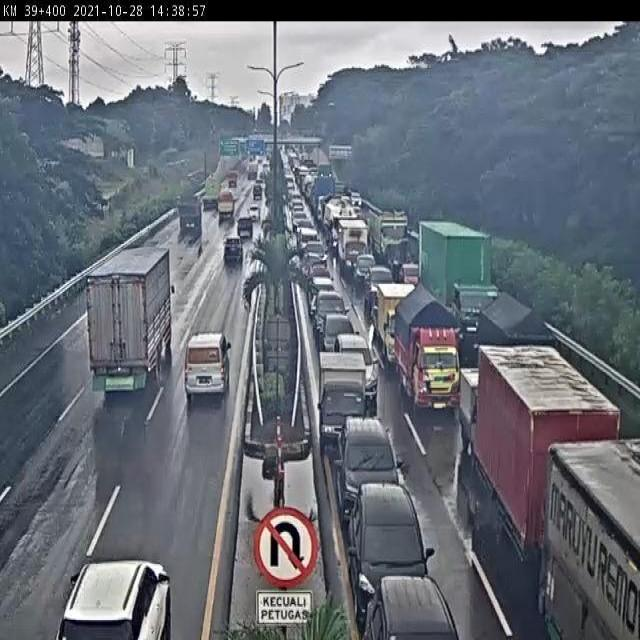big truck: (479, 345, 626, 595), (86, 247, 174, 396), (417, 220, 491, 341), (368, 206, 412, 262), (198, 177, 221, 215)
car: (349, 486, 436, 618), (335, 418, 399, 530), (363, 577, 460, 640), (183, 328, 232, 400), (335, 336, 380, 403), (319, 315, 360, 369), (312, 290, 350, 342), (367, 265, 395, 308), (309, 276, 334, 316), (300, 252, 323, 295), (297, 226, 319, 262), (220, 238, 244, 270), (355, 255, 376, 288), (234, 219, 253, 245), (247, 202, 261, 222)
small truck: (478, 292, 562, 417), (393, 287, 462, 416), (458, 365, 521, 468), (317, 348, 369, 449), (377, 283, 420, 369), (339, 220, 369, 276), (177, 192, 204, 229), (212, 192, 235, 228), (225, 173, 238, 192), (251, 185, 262, 200)
